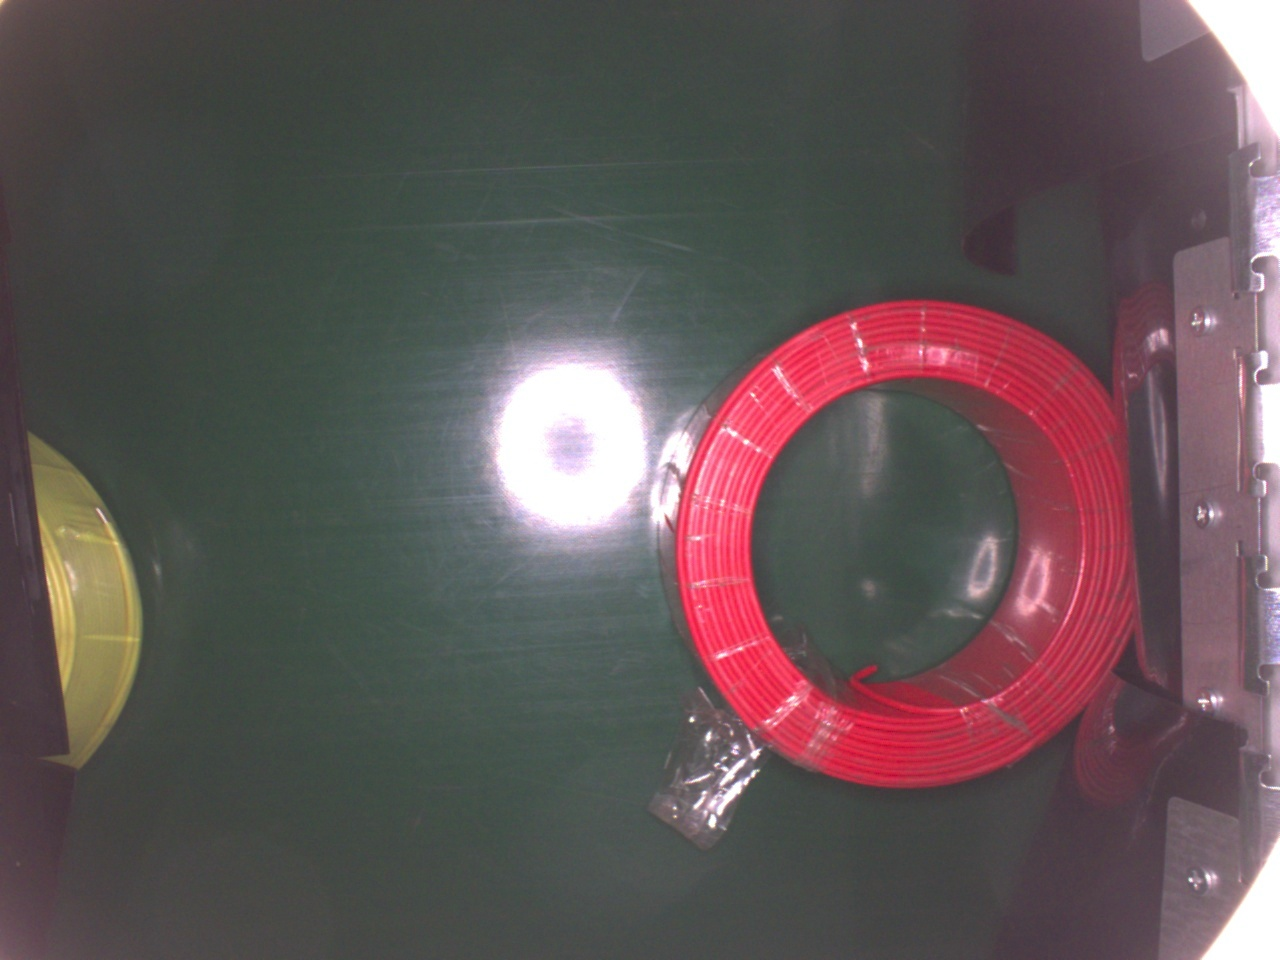red: (655, 297, 1132, 790)
